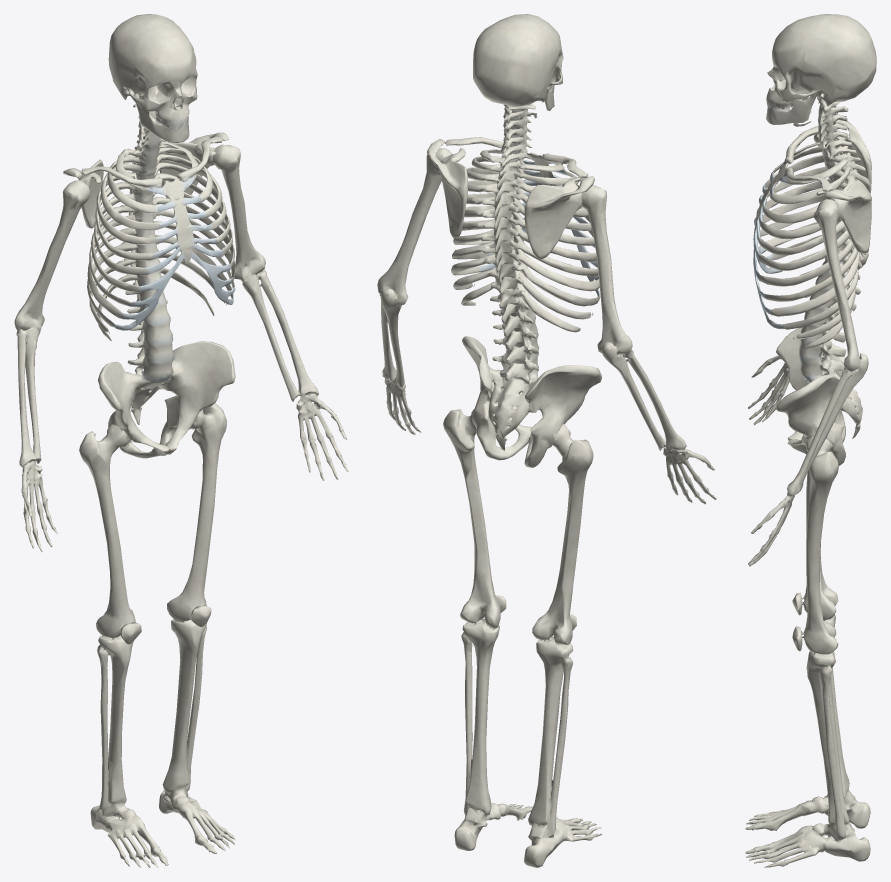
The model's file is skeletal_system.glb.
3 renders of one model, left to right at view 1: azimuth 30°, elevation 25°; view 2: azimuth 150°, elevation 25°; view 3: azimuth 270°, elevation 25°, orthographic.
Visible parts, largest first — view 1: Object_5; view 2: Object_5; view 3: Object_5.
Part boxes in pixels (x1,y1,x2,y2): Object_5: (14, 14, 348, 867); Object_5: (377, 14, 716, 867); Object_5: (745, 14, 876, 867).
Bounding box in the file's own units: 0.7281 × 1.78 × 0.2566.
1 material, 1 textured.
